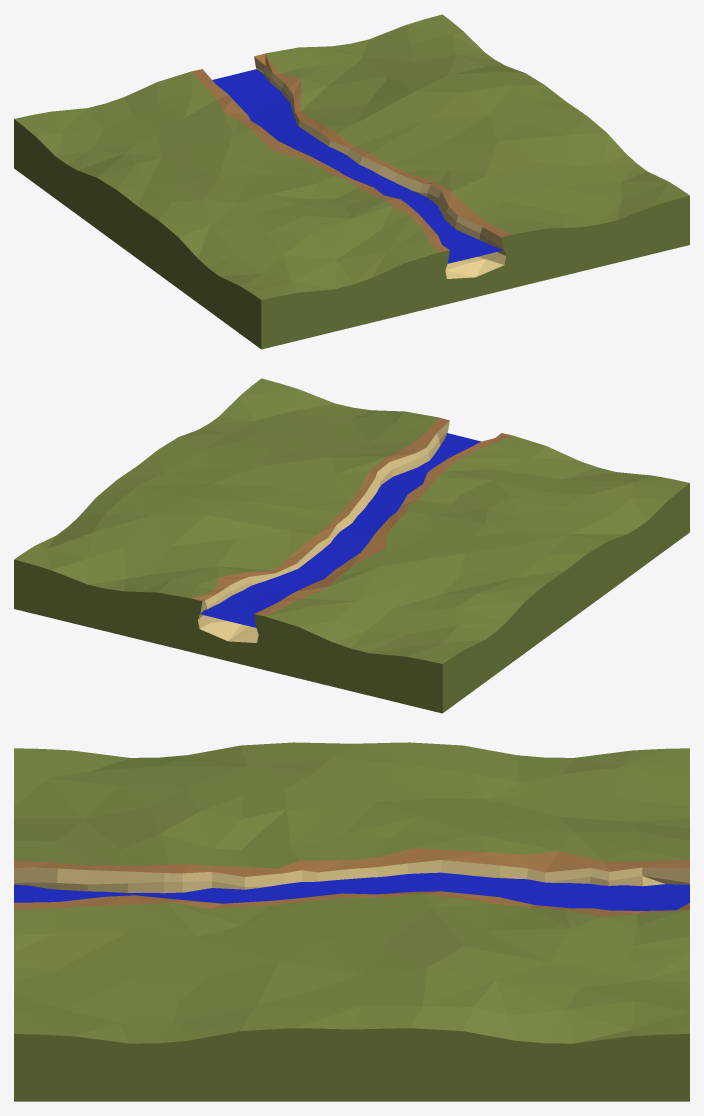
File: Terrian_River_Straight_Flat-03.fbx
3 views of the same model, one above another, from view 1: azimuth 30°, elevation 25°; view 2: azimuth 150°, elevation 25°; view 3: azimuth 270°, elevation 25° (orthographic). The views are drawn at different scales.
Parts seen in each view (by area): view 1: Terrian_River_Straight_Flat-03; view 2: Terrian_River_Straight_Flat-03; view 3: Terrian_River_Straight_Flat-03.
Boxes of the visible parts, x1,y1,x2,y2 form: Terrian_River_Straight_Flat-03: [14, 14, 689, 349]; Terrian_River_Straight_Flat-03: [14, 378, 689, 713]; Terrian_River_Straight_Flat-03: [14, 742, 689, 1101].
Size of the model in its own units: 3600 by 483 by 3600.
